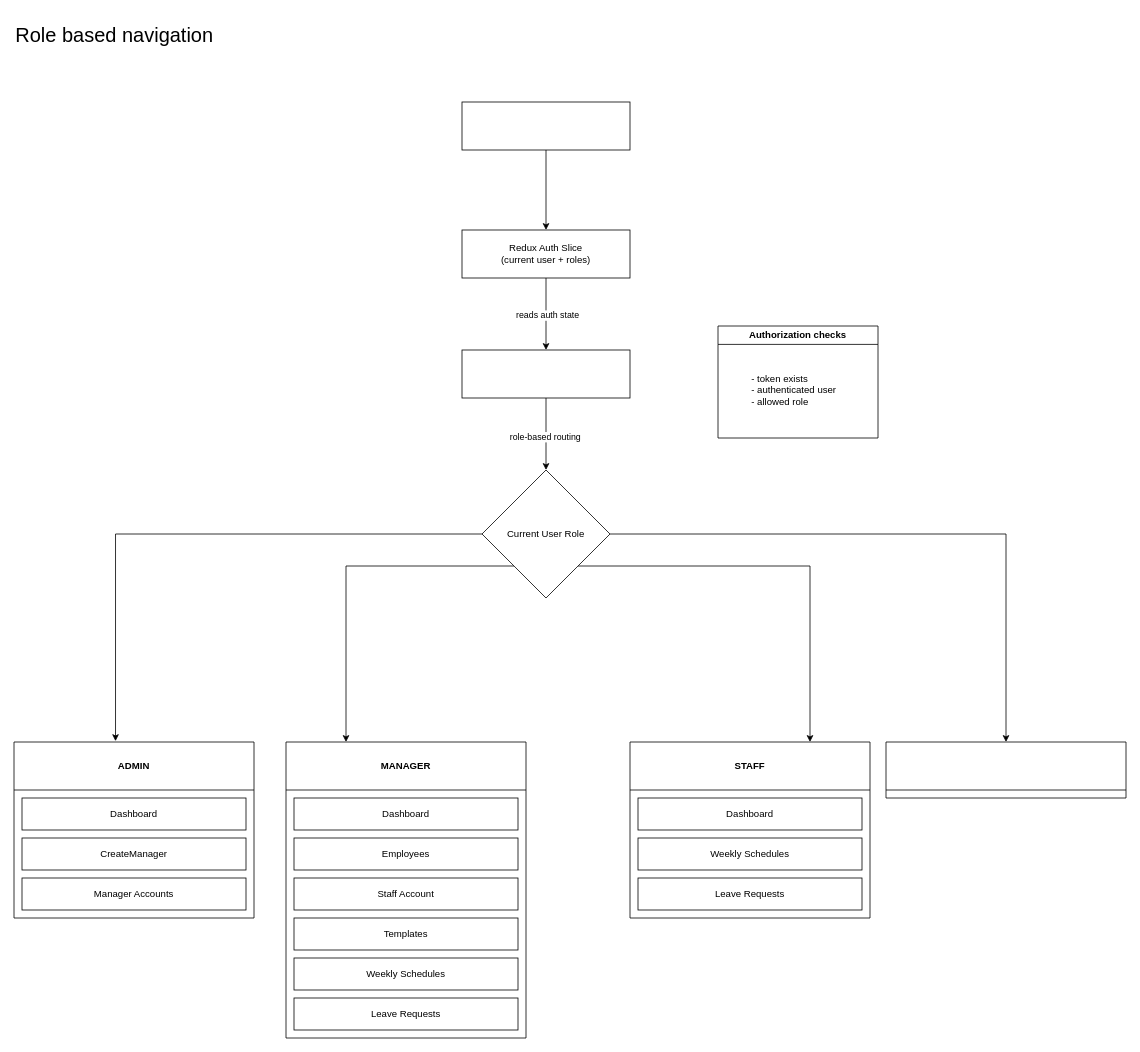
Some shapes in this 1140 by 1052 pixel diagram are drawn without their labels. Each missing label, with the centre of its shape:
"Authenticated User" goes at pixel 545 125.
"FINANCIAL_ADVISOR" goes at pixel 1005 769.
"ProtectedRoute" goes at pixel 545 373.
